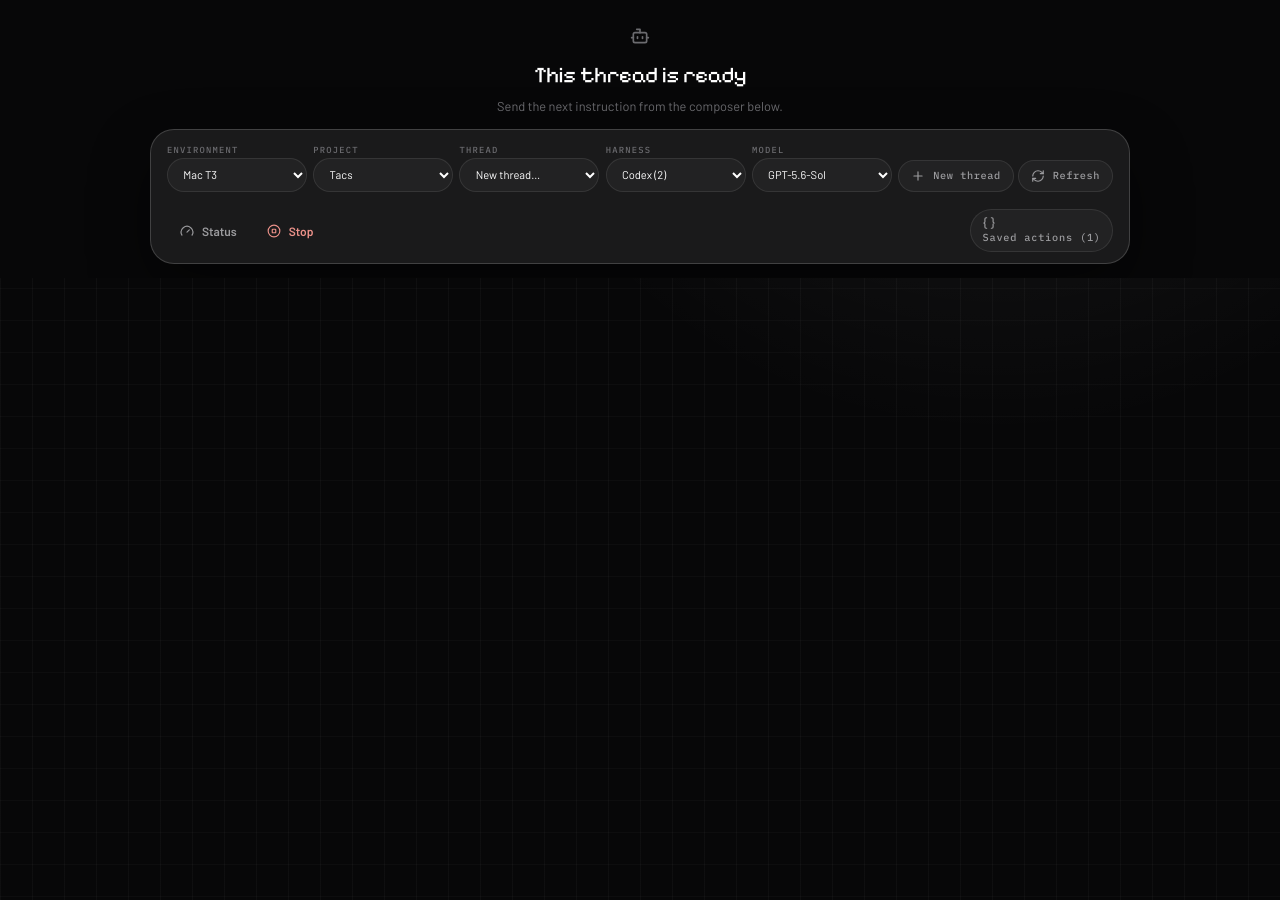
it: does not run a media action without selecting an upload
Click the heading "Saved actions (1)" at {"x": 1042, "y": 231}, box [970, 209, 1113, 252]
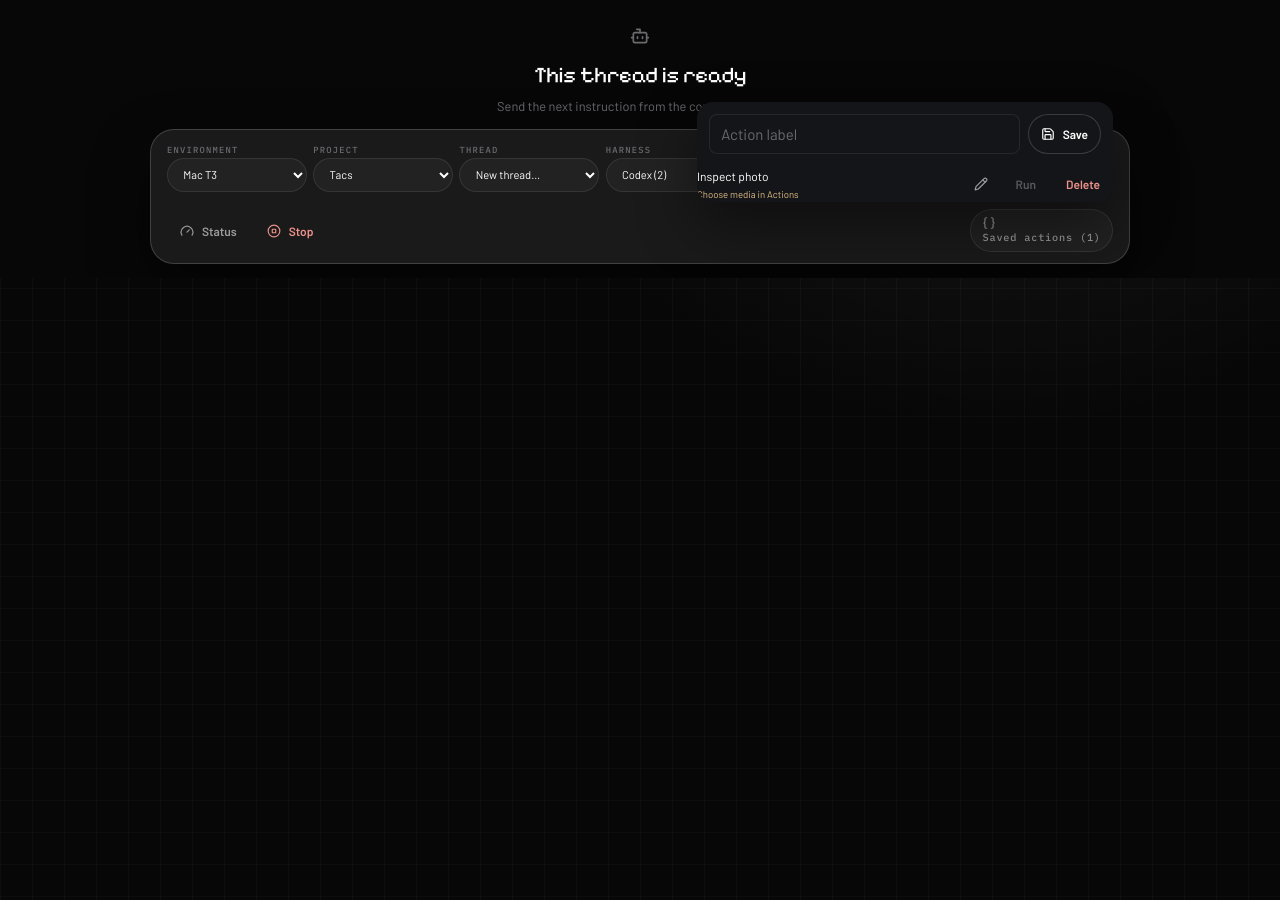
Check: the text "Choose media in Actions" is shown, box [697, 188, 799, 200]
Check: the button "Run" is disabled, box [1003, 168, 1049, 200]
